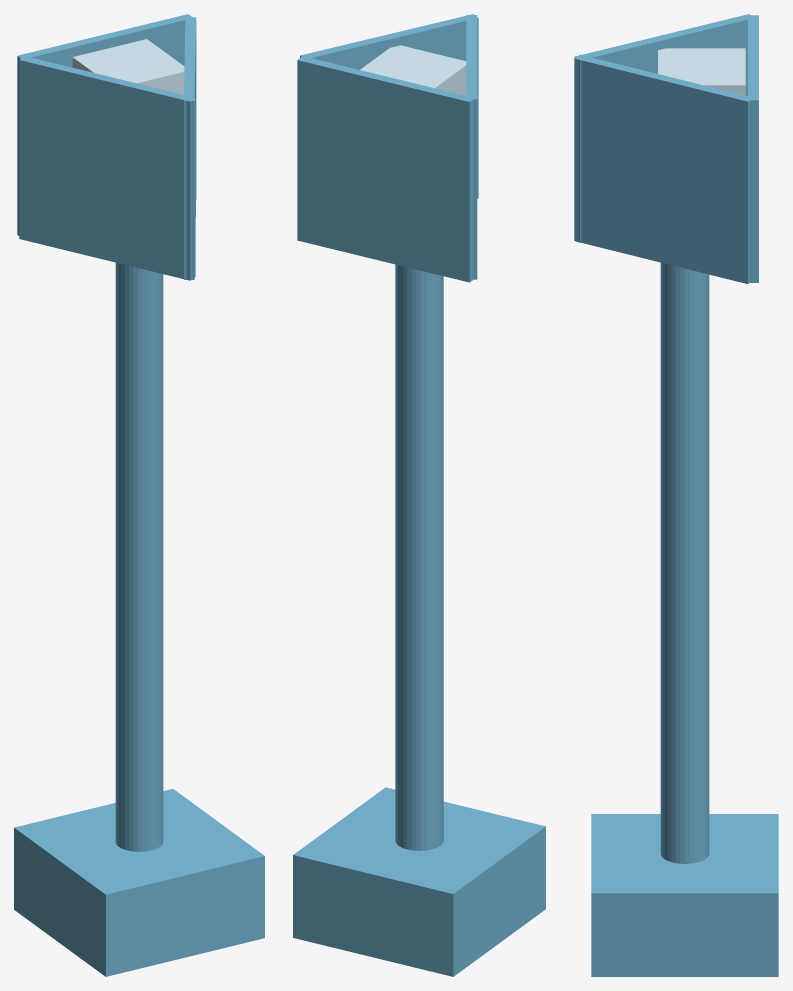
The model's file is tower-iot.glb.
The picture shows the model from 3 angles, left to right: view 1: azimuth 30°, elevation 25°; view 2: azimuth 150°, elevation 25°; view 3: azimuth 270°, elevation 25°; orthographic projection.
Parts seen in each view (by area): view 1: Cube.004, Cube.001, Cylinder, Cube.002; view 2: Cube.004, Cube.001, Cylinder, Cube.002; view 3: Cube.004, Cylinder, Cube.001, Cube.002.
Part boxes in pixels (x1,y1,x2,y2): Cube.004: (17,14,196,280); Cube.001: (14,789,264,976); Cylinder: (115,262,163,851); Cube.002: (72,39,184,94); Cube.004: (297,14,478,282); Cube.001: (293,787,545,976); Cylinder: (395,264,443,850); Cube.002: (360,45,466,95); Cube.004: (574,14,758,283); Cylinder: (660,262,709,863); Cube.001: (591,814,778,976); Cube.002: (658,48,745,95).
Size of the model in its own units: 0.6666 by 3.12 by 0.656.
